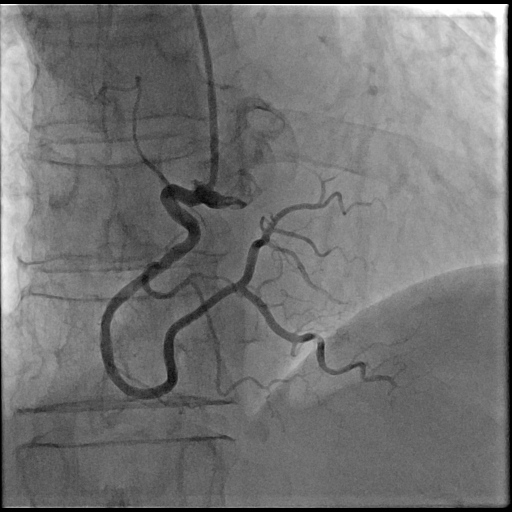RCA: (100, 184, 395, 399)
catherter: (193, 5, 219, 190)
